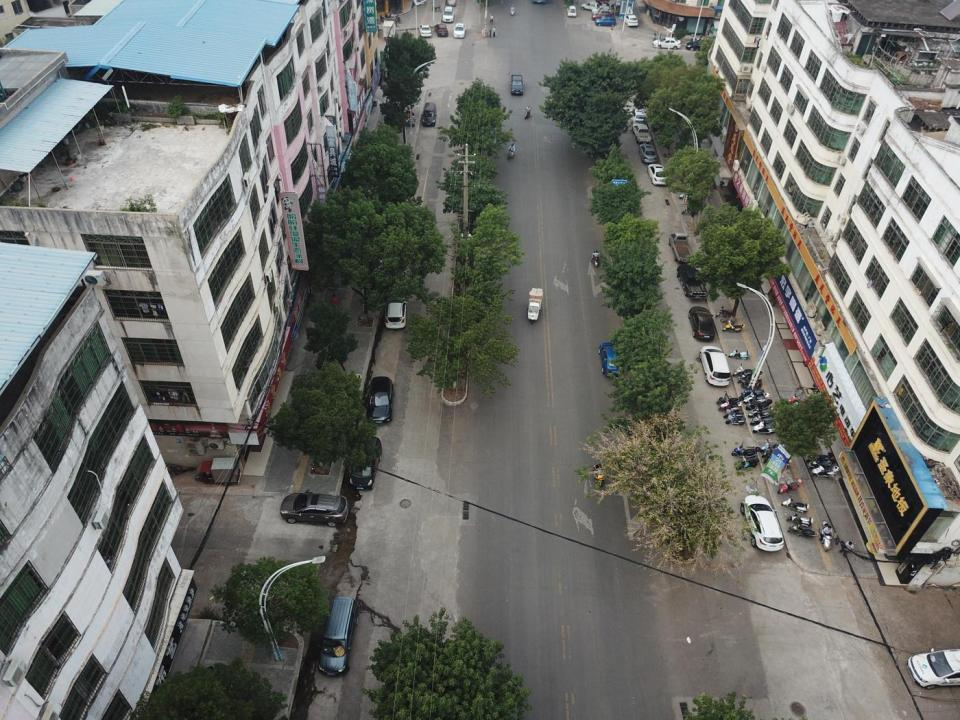car: (740, 494, 785, 553), (279, 491, 348, 527), (908, 649, 960, 689), (366, 376, 394, 424), (699, 346, 730, 388), (597, 342, 626, 379), (688, 306, 716, 343), (384, 295, 406, 330), (647, 164, 667, 186), (653, 36, 681, 50), (686, 39, 716, 52), (638, 144, 656, 164), (630, 108, 648, 124), (595, 16, 616, 28), (622, 14, 638, 27), (452, 24, 466, 38), (442, 6, 454, 22), (434, 24, 448, 37), (418, 25, 433, 37), (591, 5, 610, 14), (581, 1, 599, 10), (592, 12, 612, 20), (566, 6, 576, 17)
truck: (676, 265, 708, 300), (669, 233, 693, 264), (632, 122, 652, 142), (510, 74, 523, 95)
van: (318, 597, 360, 679), (347, 436, 382, 491), (423, 102, 436, 126)
